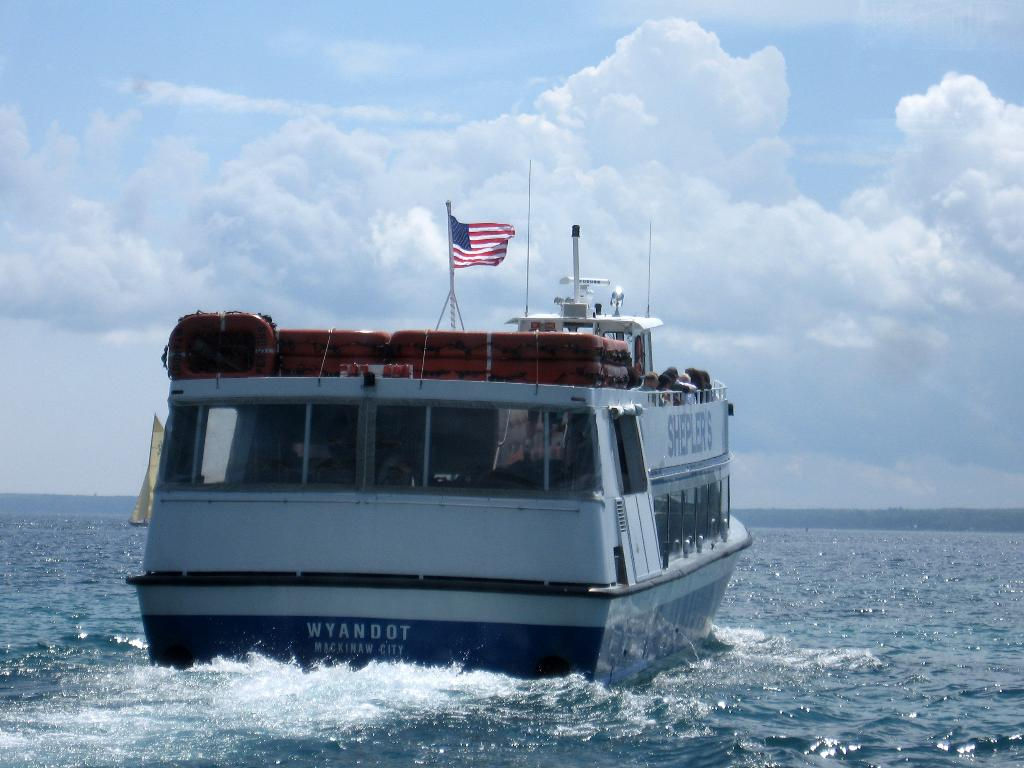PassengerShip: (92, 179, 756, 691)
